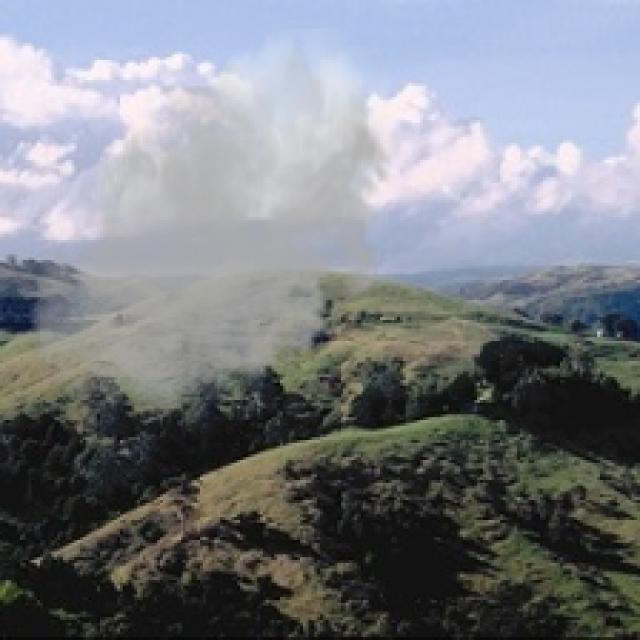Smoke: (23, 29, 403, 432)
